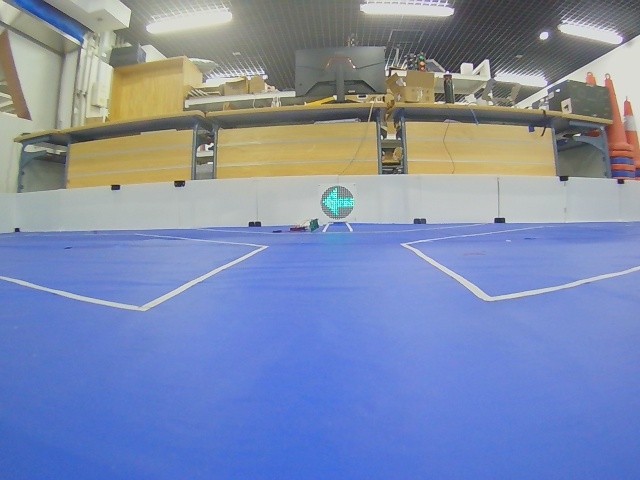left_green: (320, 186, 355, 220)
